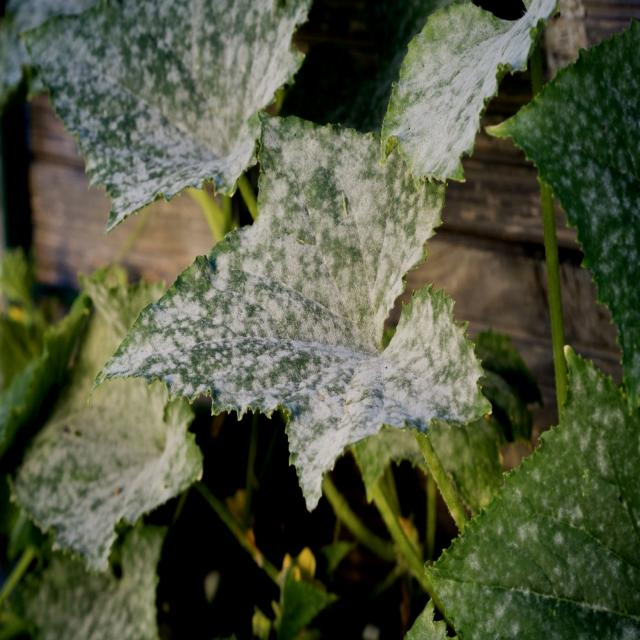Powdery Mildew: (88, 110, 493, 512), (9, 261, 204, 575)
